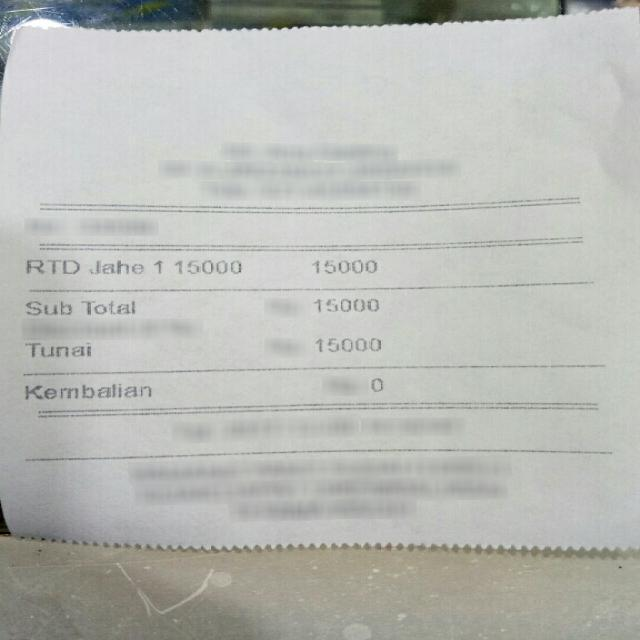kertas: (2, 7, 638, 550)
